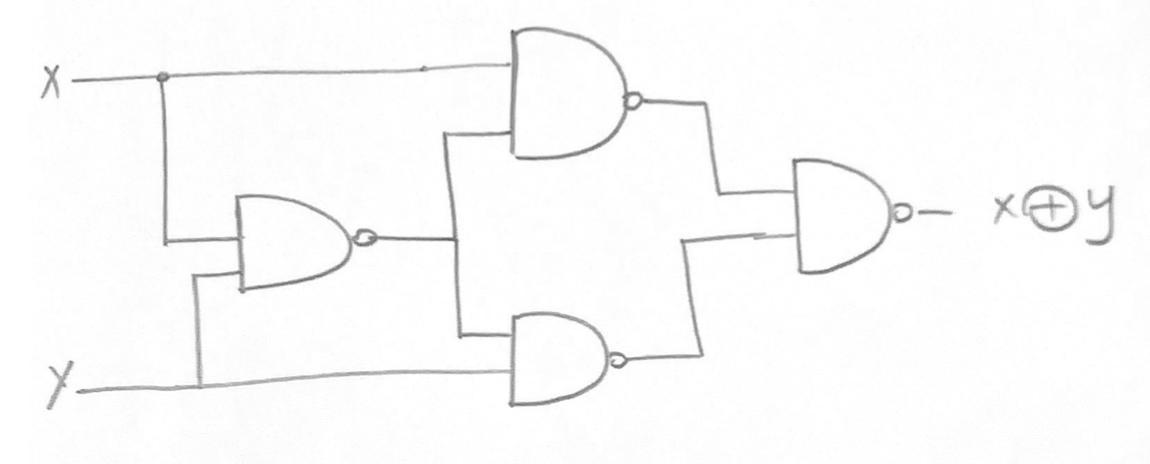NAND: (491, 12, 656, 178), (219, 180, 405, 306), (779, 138, 931, 290), (490, 294, 642, 420)
